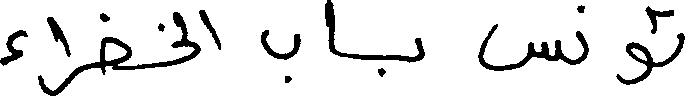ء: (0, 28, 28, 67)
ا: (198, 8, 221, 54), (44, 15, 67, 55), (324, 0, 335, 55)
ب: (257, 27, 300, 82), (376, 35, 425, 76)
ت: (648, 8, 683, 58)
خ: (151, 22, 200, 61)
ر: (66, 38, 84, 87)
س: (474, 21, 559, 70)
ض: (97, 11, 130, 75)
ل: (170, 8, 191, 48)
ن: (576, 3, 591, 64)
و: (613, 39, 652, 85)
